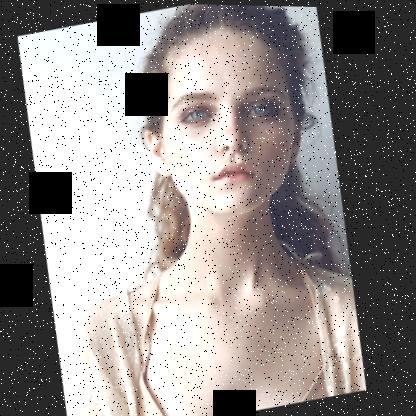Female: (120, 12, 326, 231)
